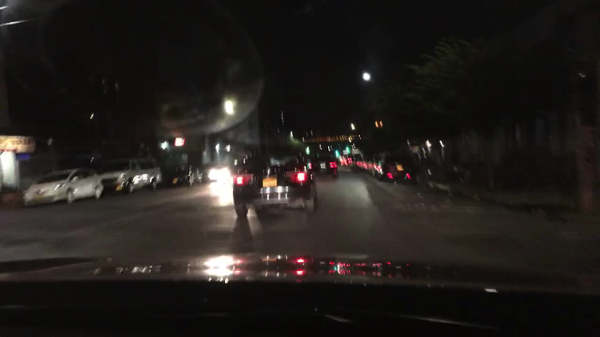car: (232, 143, 317, 219), (21, 166, 104, 208), (98, 157, 162, 196), (378, 150, 416, 187), (308, 154, 337, 177), (168, 166, 193, 186), (372, 158, 383, 181), (199, 165, 213, 183), (192, 165, 204, 184), (363, 159, 375, 175), (359, 160, 368, 169), (354, 158, 364, 166)
traffic light: (334, 147, 340, 158), (345, 144, 351, 154)
